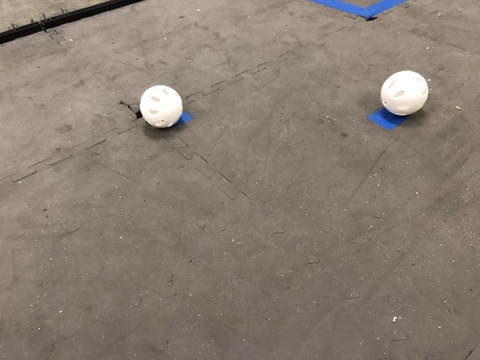ball: (130, 86, 199, 132), (375, 70, 432, 120)
